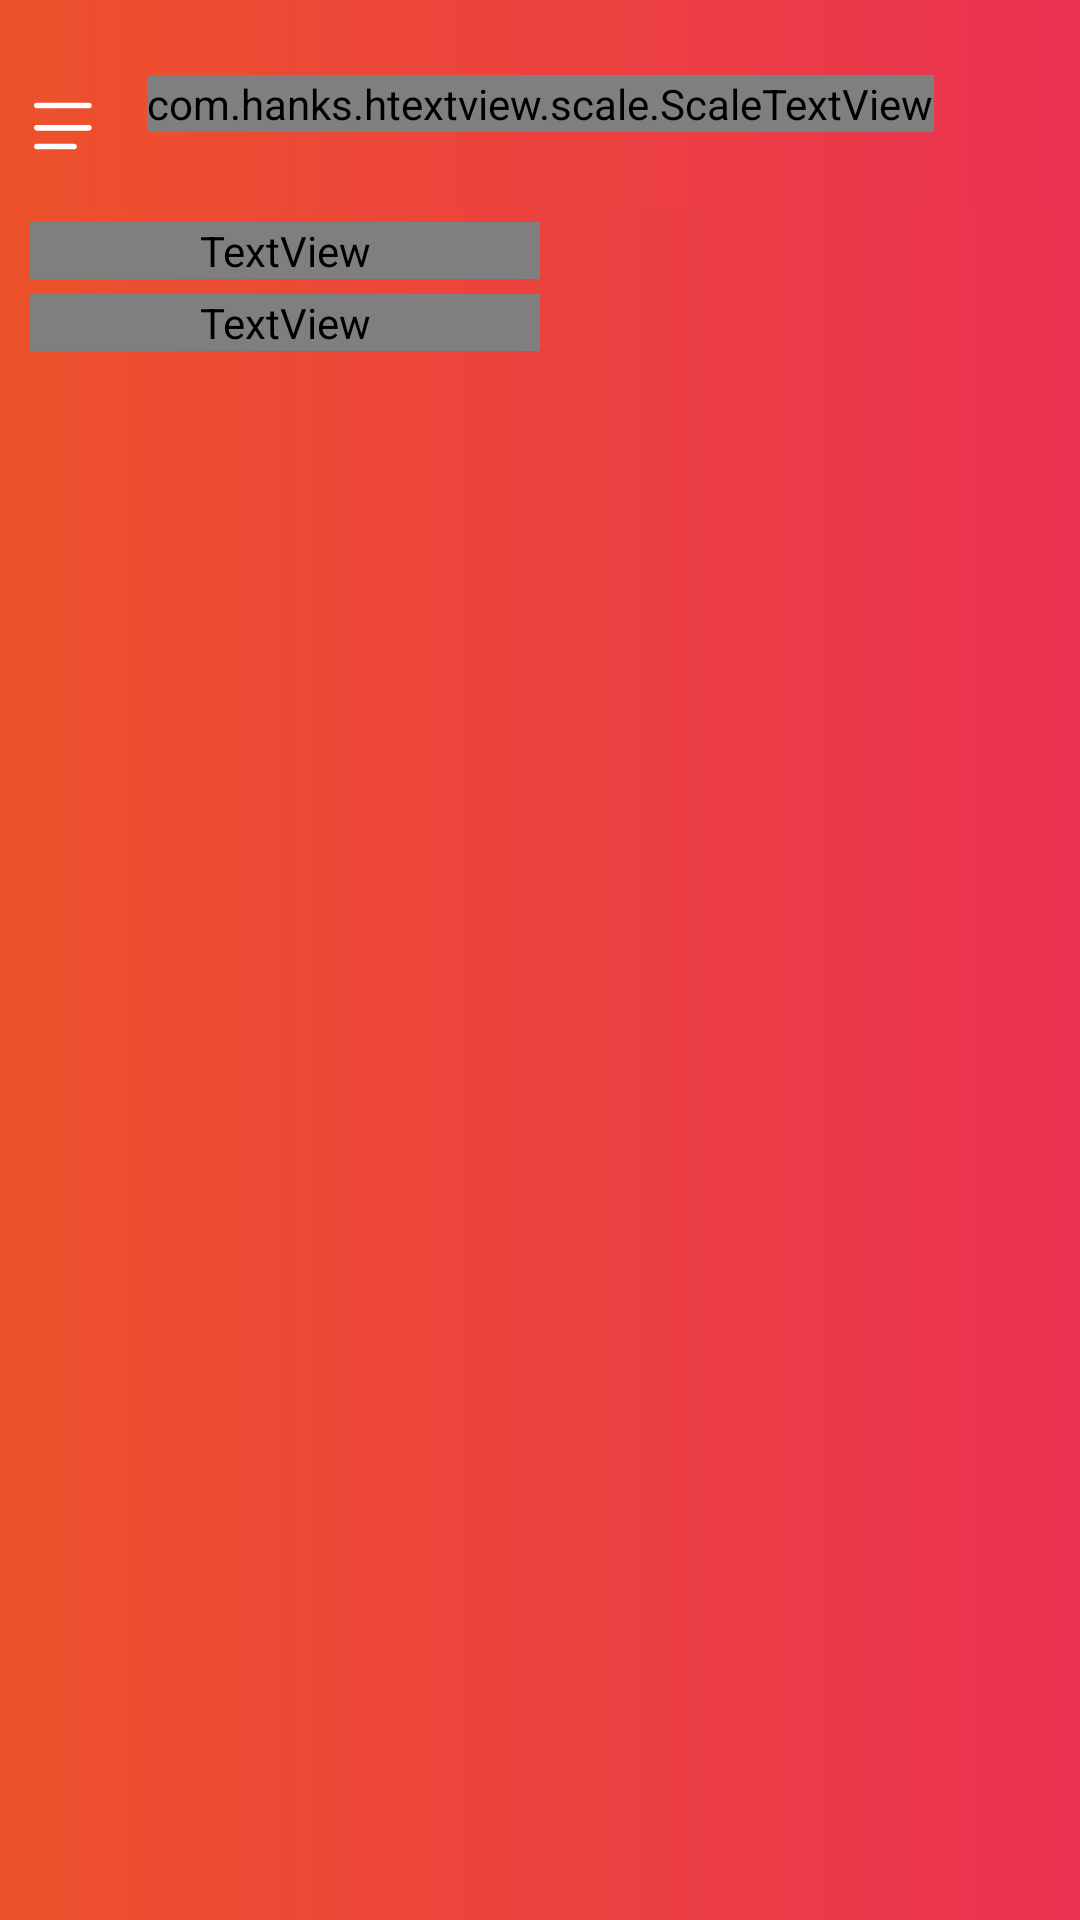

Icons on this 1080 × 1920 Android screen, each with the point to tap as point (x, y):
menu: point (63, 126)
